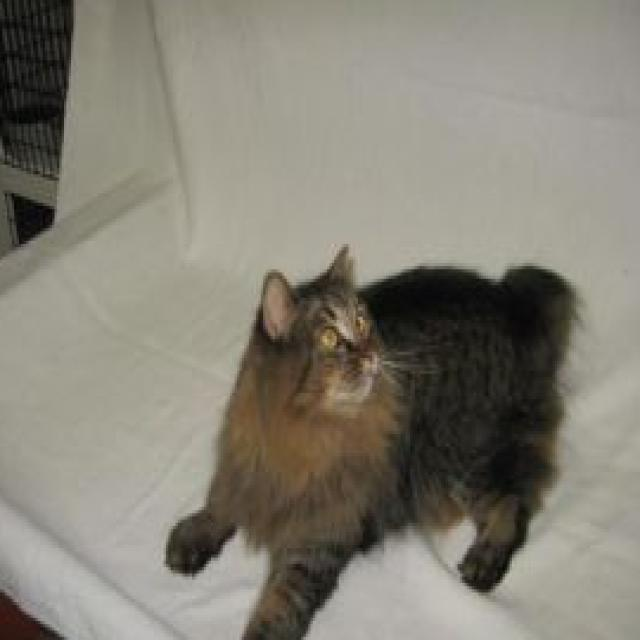American Bobtail: (161, 237, 587, 640)
